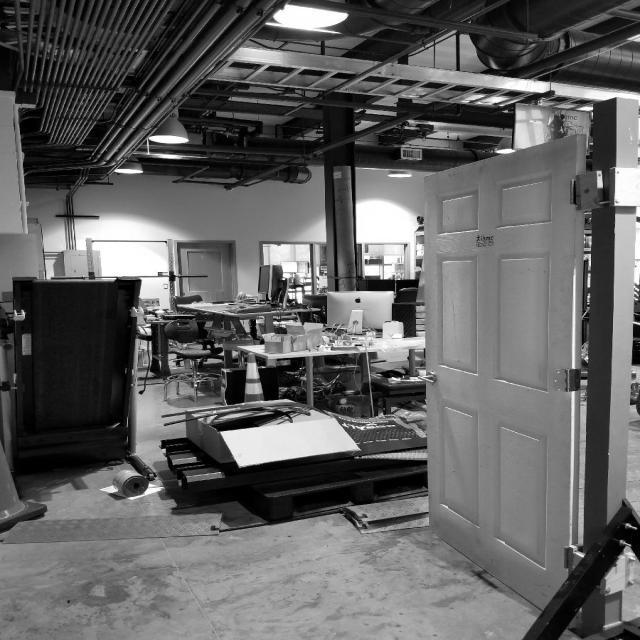door: (418, 132, 588, 624), (416, 372, 442, 384)
